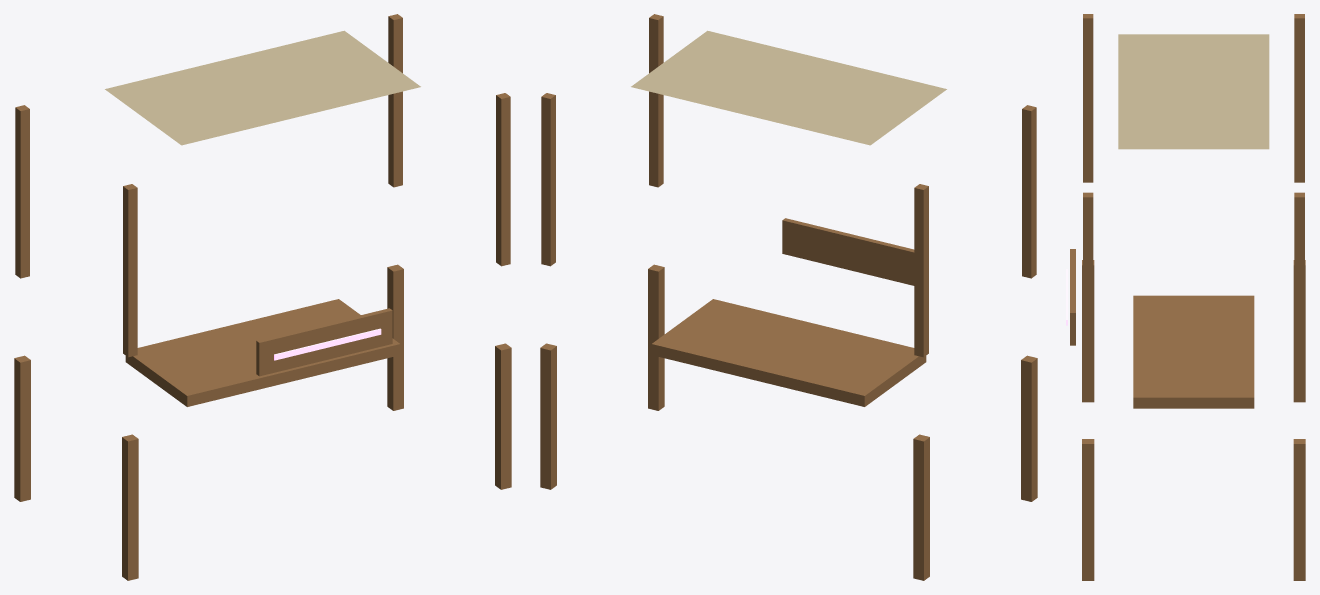
The model's file is bazaar_market_stall.glb.
The picture shows the model from 3 angles, left to right: view 1: azimuth 30°, elevation 25°; view 2: azimuth 150°, elevation 25°; view 3: azimuth 270°, elevation 25°; orthographic projection.
Parts seen in each view (by area): view 1: Stall_Canopy, Stall_Counter, Stall_Sign, Stall_Post_0, Stall_Post_1, Stall_Post_2, Stall_Leg_1, Stall_Leg_0, Stall_Leg_2, Stall_Post_3, Stall_Leg_3, Stall_Neon; view 2: Stall_Canopy, Stall_Counter, Stall_Sign, Stall_Post_2, Stall_Post_0, Stall_Post_3, Stall_Leg_3, Stall_Leg_0, Stall_Leg_2, Stall_Leg_1, Stall_Post_1; view 3: Stall_Canopy, Stall_Counter, Stall_Post_3, Stall_Post_1, Stall_Post_0, Stall_Post_2, Stall_Leg_1, Stall_Leg_3, Stall_Leg_0, Stall_Leg_2, Stall_Sign.
Boxes of the visible parts, <box> form: Stall_Canopy: <box>105,30,420,145</box>; Stall_Counter: <box>125,299,400,406</box>; Stall_Sign: <box>256,308,392,376</box>; Stall_Post_0: <box>123,184,137,357</box>; Stall_Post_1: <box>496,93,510,266</box>; Stall_Post_2: <box>15,105,29,278</box>; Stall_Leg_1: <box>495,343,511,489</box>; Stall_Leg_0: <box>122,434,138,580</box>; Stall_Leg_2: <box>14,355,30,501</box>; Stall_Post_3: <box>388,14,402,187</box>; Stall_Leg_3: <box>387,264,403,410</box>; Stall_Neon: <box>274,328,381,360</box>; Stall_Canopy: <box>631,30,946,145</box>; Stall_Counter: <box>651,299,926,406</box>; Stall_Sign: <box>782,218,914,285</box>; Stall_Post_2: <box>914,184,928,357</box>; Stall_Post_0: <box>1022,105,1036,278</box>; Stall_Post_3: <box>541,93,555,266</box>; Stall_Leg_3: <box>540,343,556,489</box>; Stall_Leg_0: <box>1021,355,1037,501</box>; Stall_Leg_2: <box>913,434,929,580</box>; Stall_Leg_1: <box>648,264,664,410</box>; Stall_Post_1: <box>649,14,663,187</box>; Stall_Canopy: <box>1118,34,1269,149</box>; Stall_Counter: <box>1133,295,1254,408</box>; Stall_Post_3: <box>1294,192,1304,361</box>; Stall_Post_1: <box>1083,192,1093,361</box>; Stall_Post_0: <box>1083,14,1093,182</box>; Stall_Post_2: <box>1294,14,1304,182</box>; Stall_Leg_1: <box>1082,439,1094,580</box>; Stall_Leg_3: <box>1293,439,1305,580</box>; Stall_Leg_0: <box>1082,260,1094,402</box>; Stall_Leg_2: <box>1293,260,1305,402</box>; Stall_Sign: <box>1070,249,1075,345</box>.
Size of the model in its own units: 1.44 by 1.45 by 0.7925.
